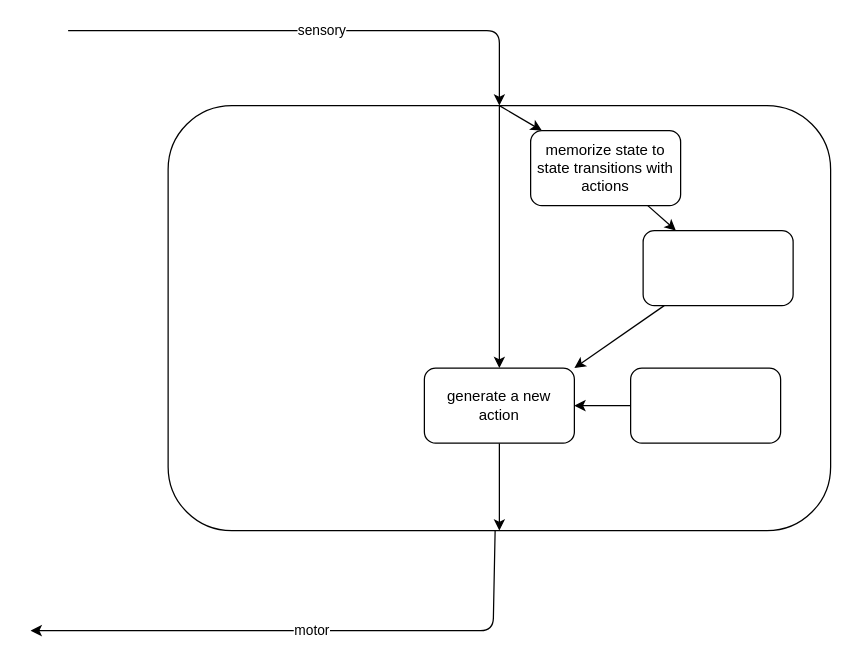
This 853x663 diagram has some shape labels left out. Each missing label, with the centre of its shape:
"compress/pattern recognition on that map" belongs at (x=717, y=267).
"goal oriented" belongs at (x=705, y=405).
